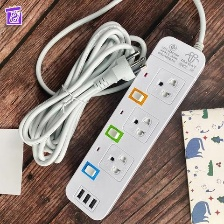three_eye_plug: (57, 31, 208, 224)
